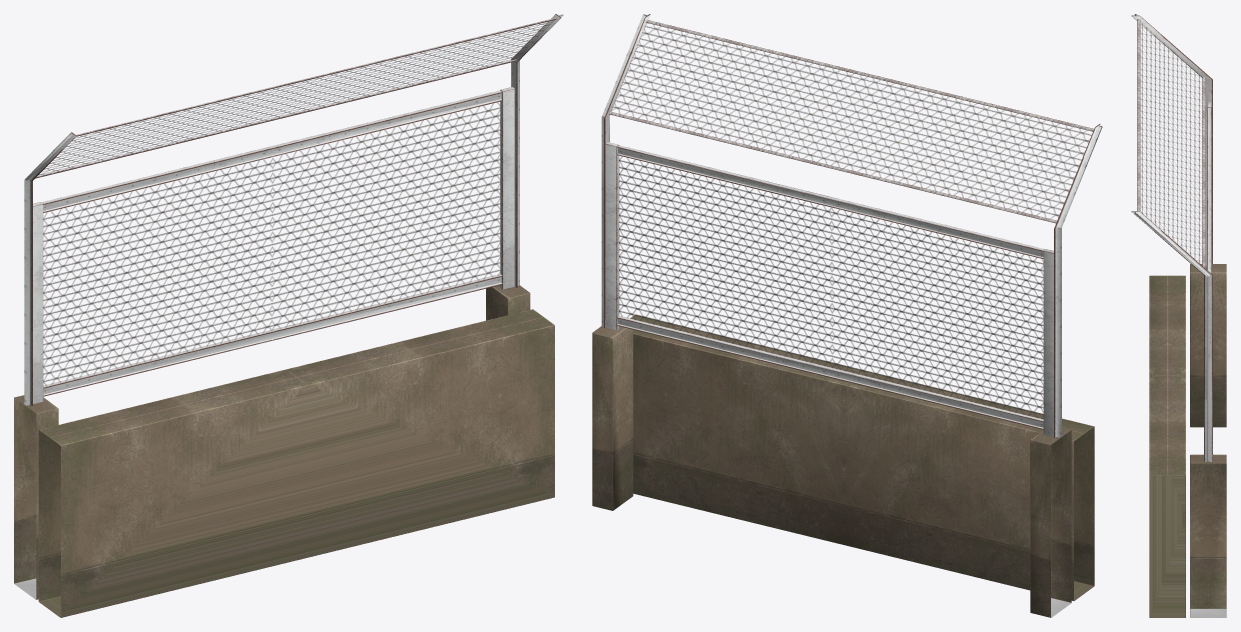
File: race_fence.glb
3 views of the same model, side by side, from view 1: azimuth 30°, elevation 25°; view 2: azimuth 150°, elevation 25°; view 3: azimuth 270°, elevation 25° (orthographic). The views are drawn at different scales.
Parts seen in each view (by area): view 1: defaultMaterial; view 2: defaultMaterial; view 3: defaultMaterial.
Boxes of the visible parts, box(x1,y1,x2,y2) form: defaultMaterial: box(14, 14, 563, 617); defaultMaterial: box(592, 14, 1102, 617); defaultMaterial: box(1131, 14, 1226, 617).
Size of the model in its own units: 450 by 425 by 91.13.
1 material, 1 textured.
